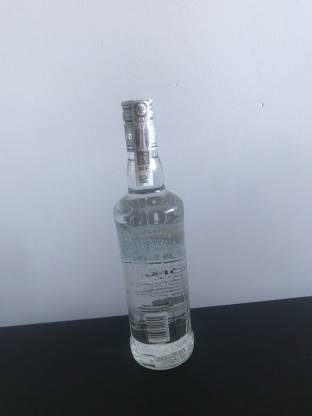nakretka: (119, 96, 159, 154)
